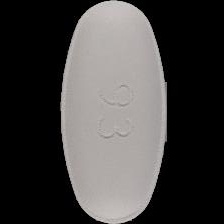55289-845: (0, 0, 224, 224)
